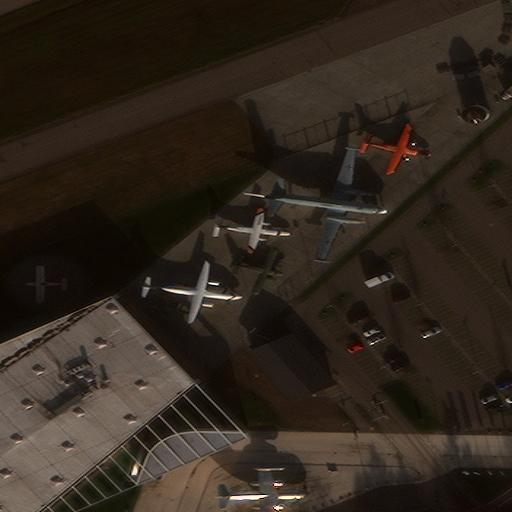Medium Civil Transport: (142, 262, 243, 321)
Military Transport: (247, 150, 389, 259), (214, 470, 308, 511), (212, 209, 292, 253), (362, 126, 431, 172), (234, 250, 283, 294)
Small Civil Transport: (26, 266, 68, 303)
